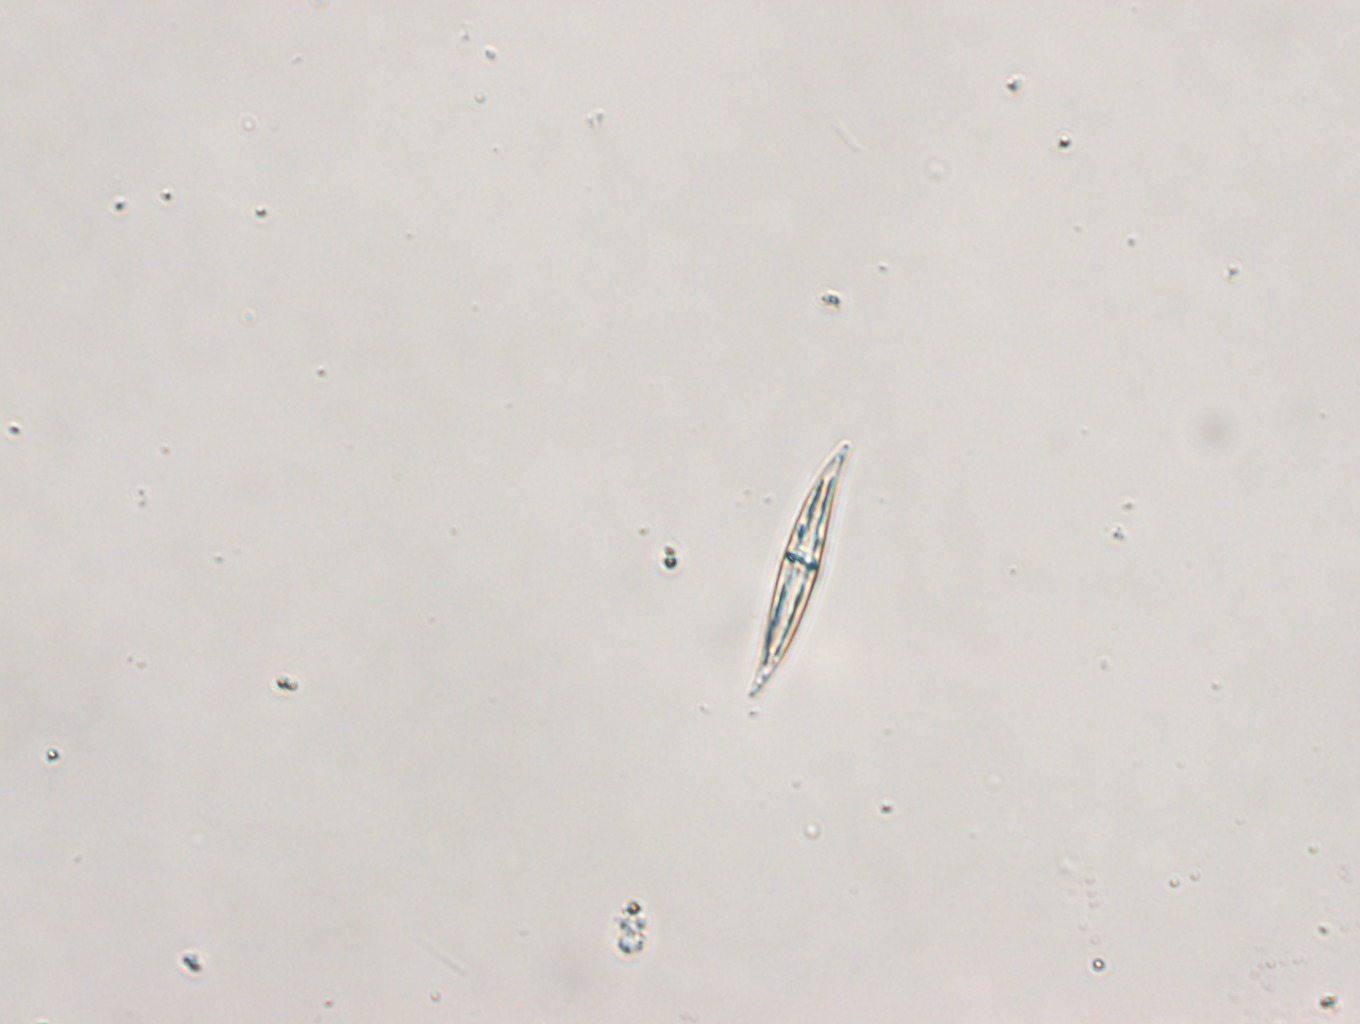pleurosigma pelagicum: (744, 430, 855, 702)
